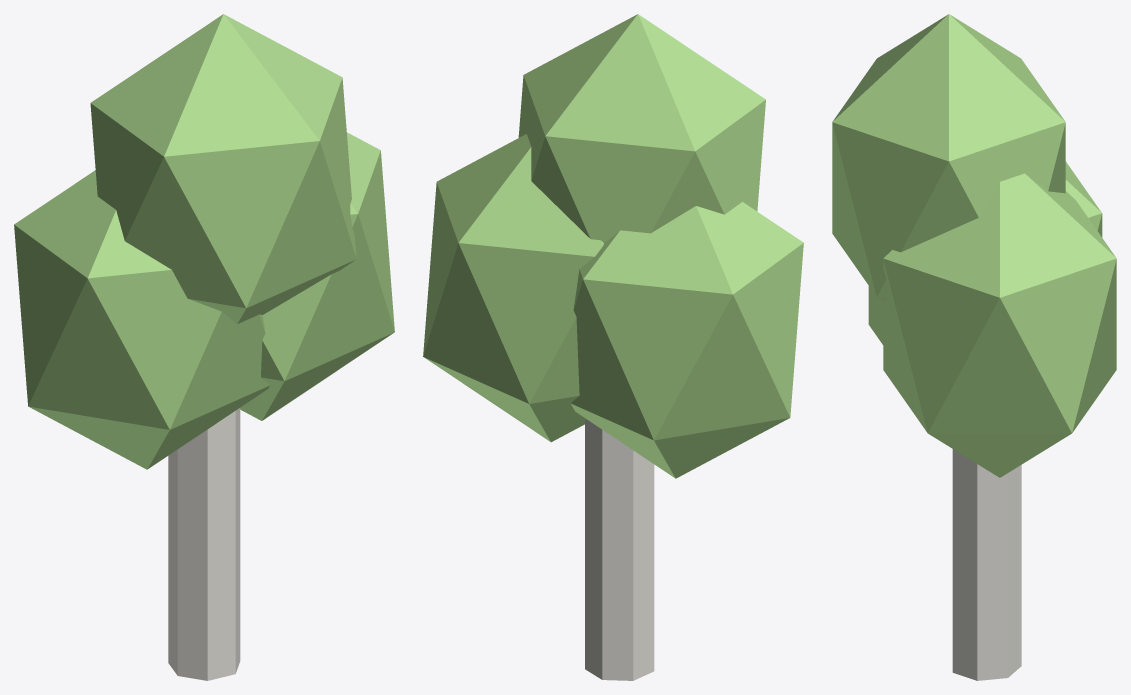
File: NAT_TREE_BIRCH_1x1_001.glb
3 views of the same model, side by side, from view 1: azimuth 30°, elevation 25°; view 2: azimuth 150°, elevation 25°; view 3: azimuth 270°, elevation 25° (orthographic). The views are drawn at different scales.
Parts seen in each view (by area): view 1: NAT_TREE_BIRCH_1x1_001_Visual; view 2: NAT_TREE_BIRCH_1x1_001_Visual; view 3: NAT_TREE_BIRCH_1x1_001_Visual.
Boxes of the visible parts, box(x1,y1,x2,y2) form: NAT_TREE_BIRCH_1x1_001_Visual: box(14, 14, 394, 680); NAT_TREE_BIRCH_1x1_001_Visual: box(423, 14, 803, 680); NAT_TREE_BIRCH_1x1_001_Visual: box(832, 14, 1116, 680).
Size of what is drawn, in the model's own units: 1.12 by 1.98 by 0.7817.
